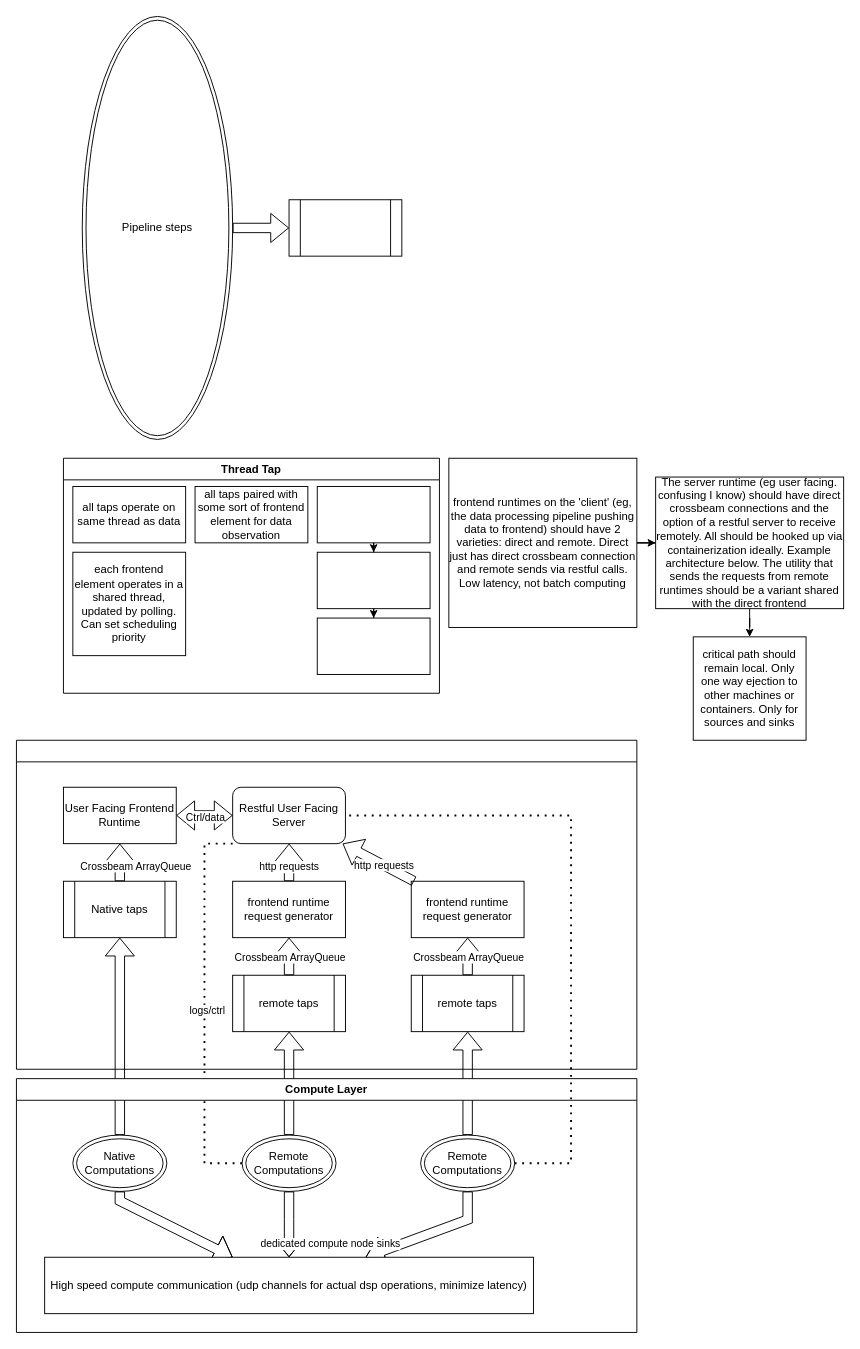
Some shapes in this 860 by 1349 pixel diagram are drawn without their labels. The shapes that lost their labels are listed below. From the top down, each one's centre as x and y in pixels, then its label:
the point at 345,227: active thread taps, clone and send data
the point at 373,514: all taps hold a crossbeam queue of size specified individually
the point at 373,580: each queue is consumed by frontend element
the point at 373,645: if the queue is full, DO NOT BLOCK computation, ignore and continue
the point at 326,904: Communication Layer
